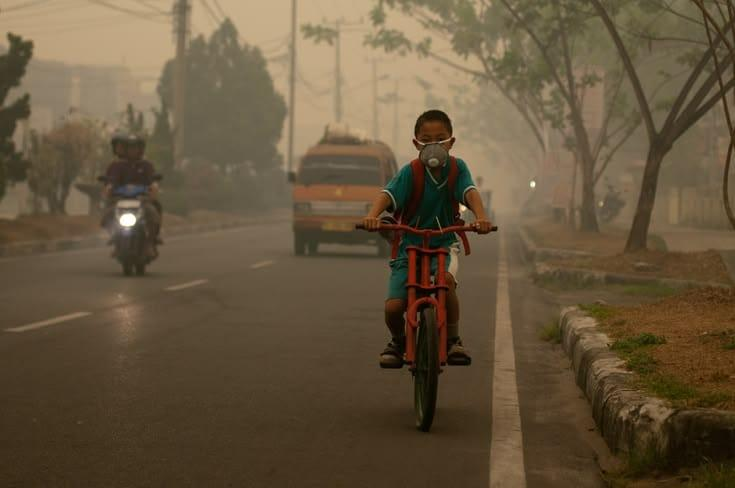Deteksi-Objek-Citra-Berasap: (0, 0, 735, 260)
Gedung: (0, 58, 163, 188)
Kendaraan: (355, 213, 499, 433), (290, 137, 400, 257), (99, 181, 163, 278)
Manusia: (362, 109, 493, 368), (97, 129, 163, 246)
Vegetasi: (358, 0, 735, 257), (155, 16, 290, 217), (21, 113, 108, 215), (0, 32, 34, 189)
